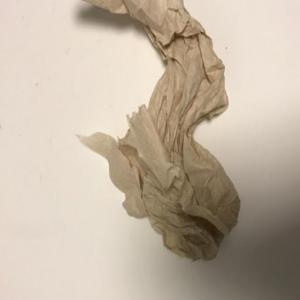Trash: (75, 2, 242, 265)
